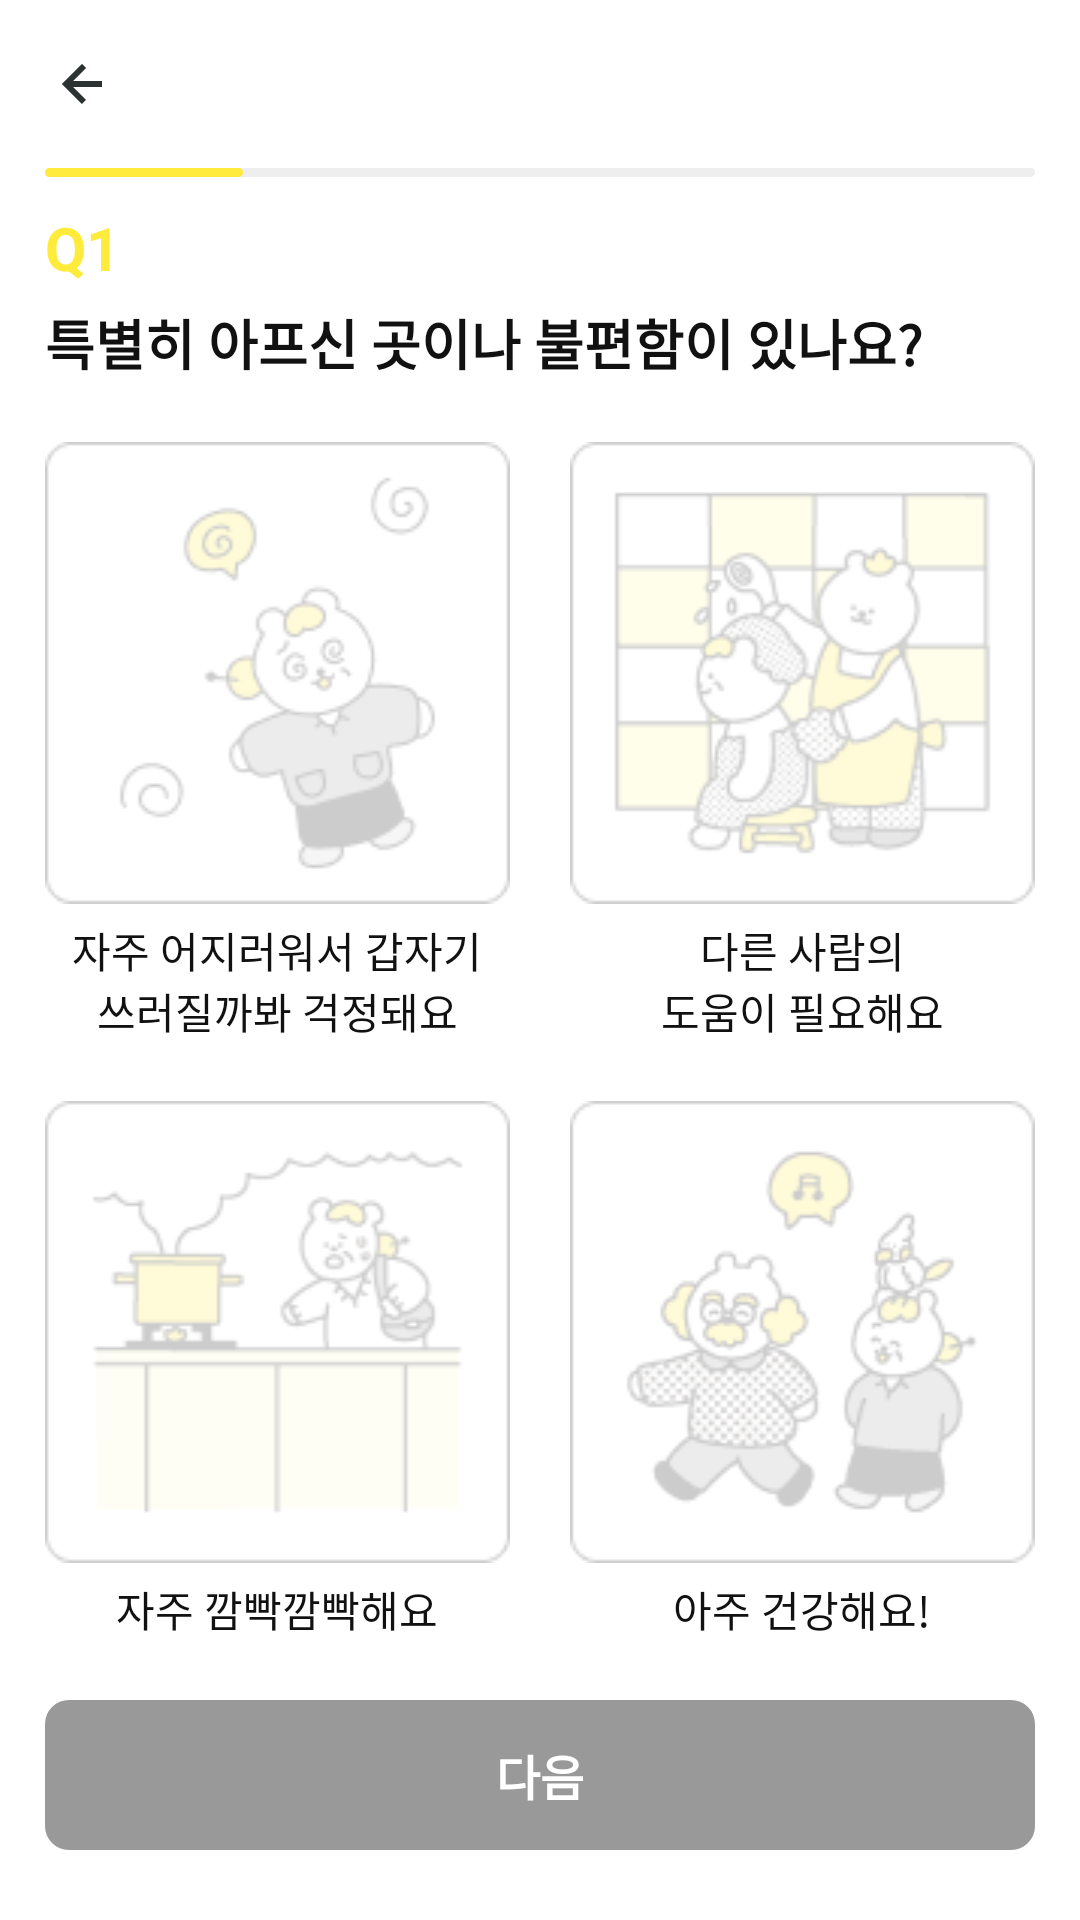

Where to tap for icons on this 1080×1920 app screen, as [x,y]:
back: [82,84]
